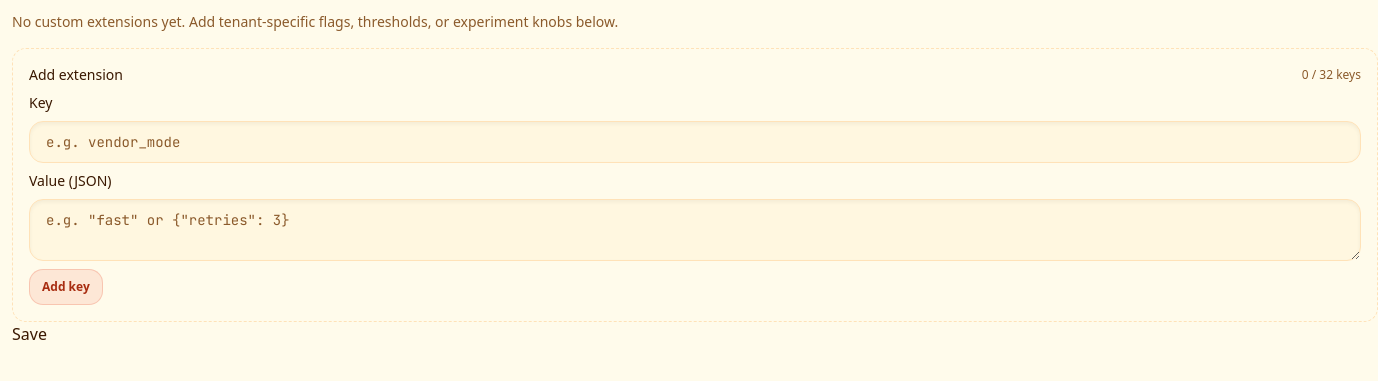
Test: extensions editor › shows a key validation message on bad syntax and adds nothing
This screenshot has width=1378, height=381.
Type "bad key!" into the field labelled "Key".
click(695, 142); type("bad key!")  # box 29,121 -> 1361,163
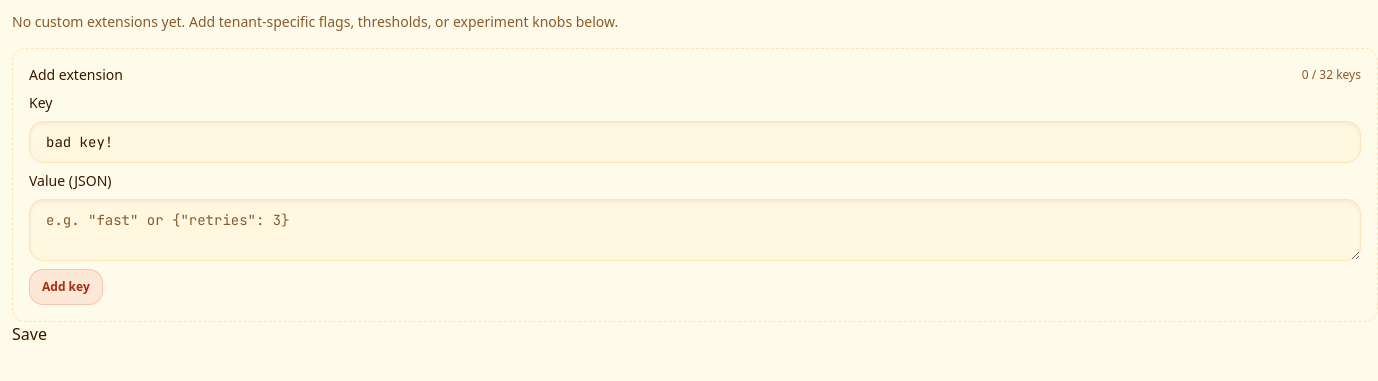
Type "\"ok\"" into the text box labelled "Value (JSON)".
click(695, 230); type("\"ok\"")  # box 29,199 -> 1361,261
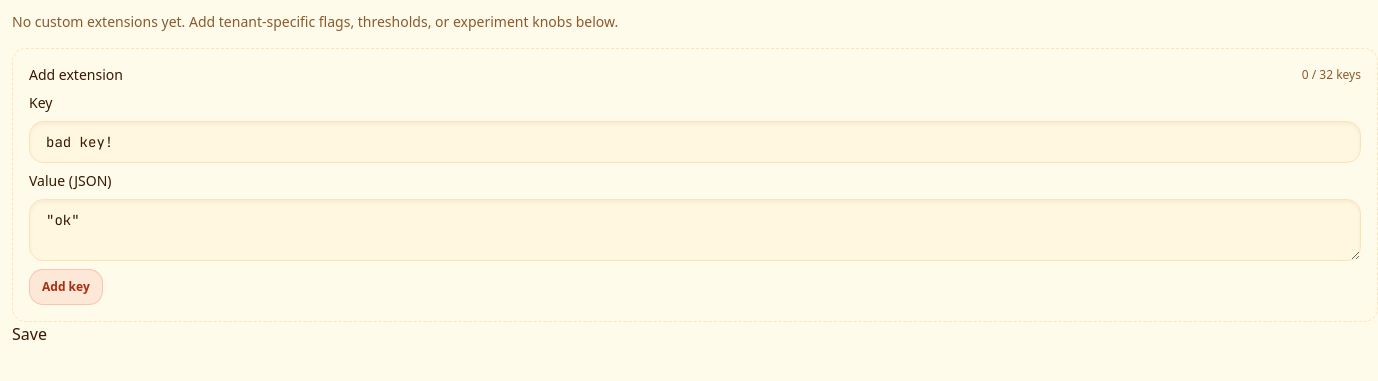
Click the button "Add key".
click(66, 287)  # box 29,269 -> 103,305
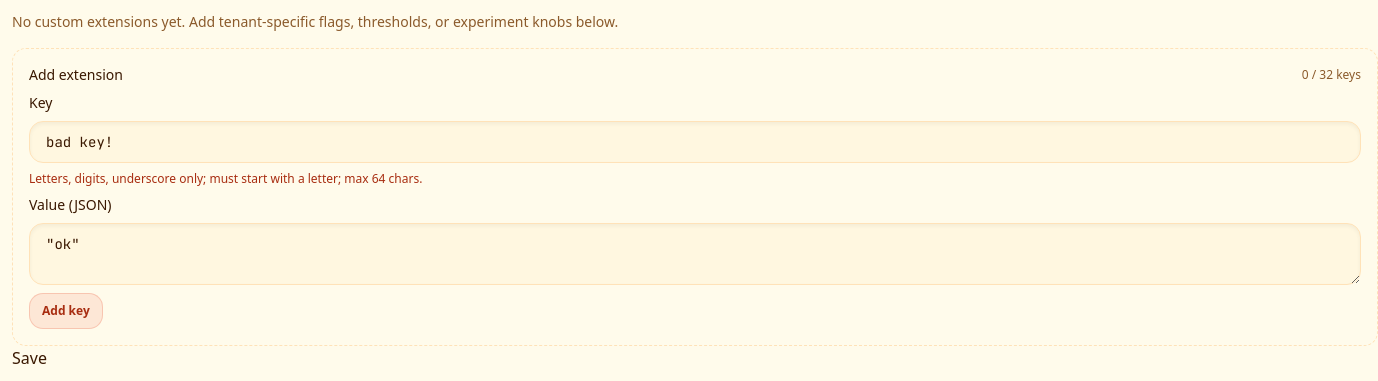
expect the text "Letters, digits, underscore only; must start with a letter; max 64 chars." is shown: met, box 29,170 -> 422,187
